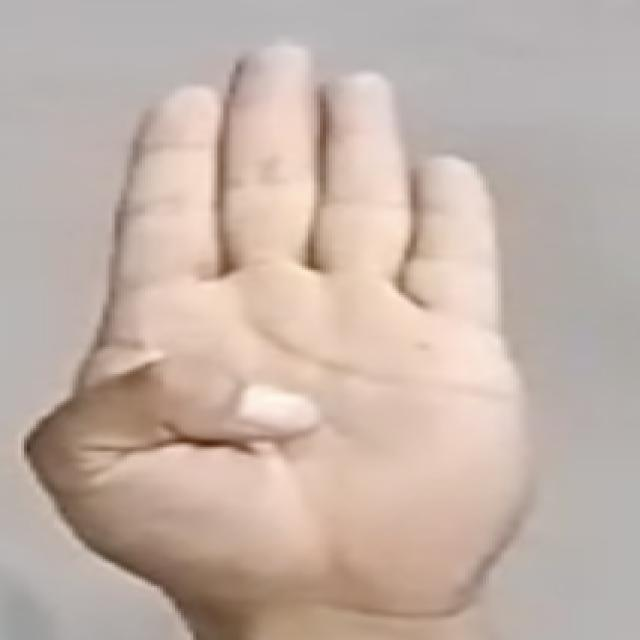B: (18, 33, 548, 619)
